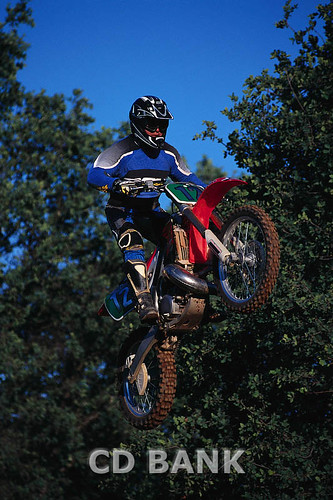helmet: (115, 90, 177, 153)
